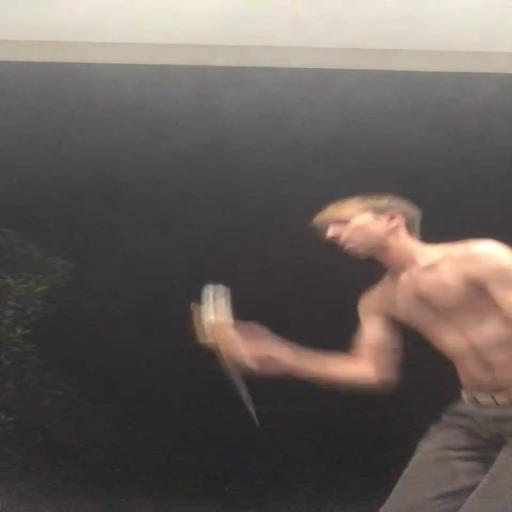kendama_ball: (200, 284, 234, 329)
